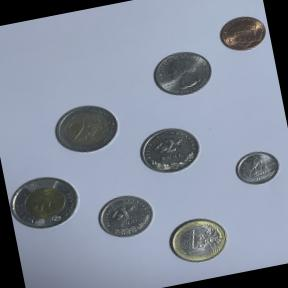coin: (4, 165, 88, 238), (46, 96, 126, 164), (146, 42, 220, 104), (132, 120, 206, 181), (164, 211, 234, 270), (227, 143, 286, 193), (213, 8, 272, 58)
